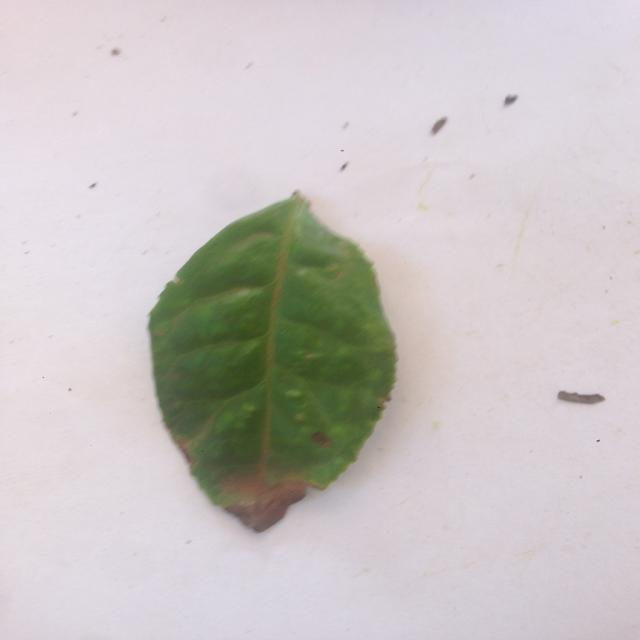Brown Blight: (131, 188, 395, 531)
